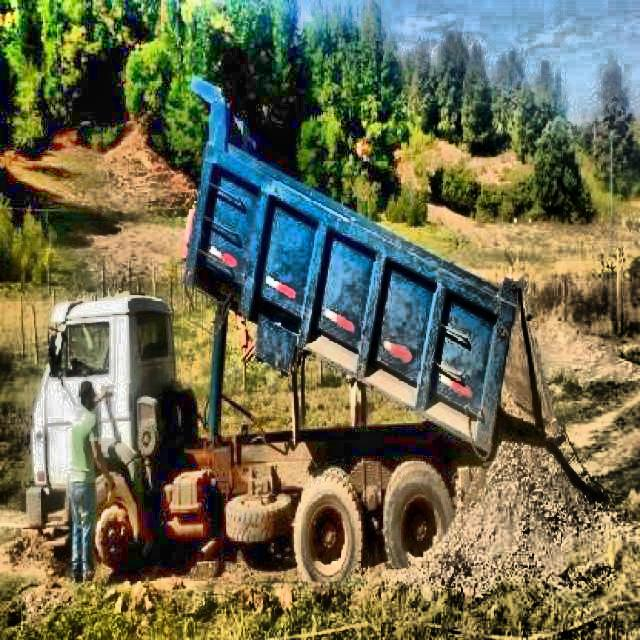dump_truck: (32, 68, 561, 559)
